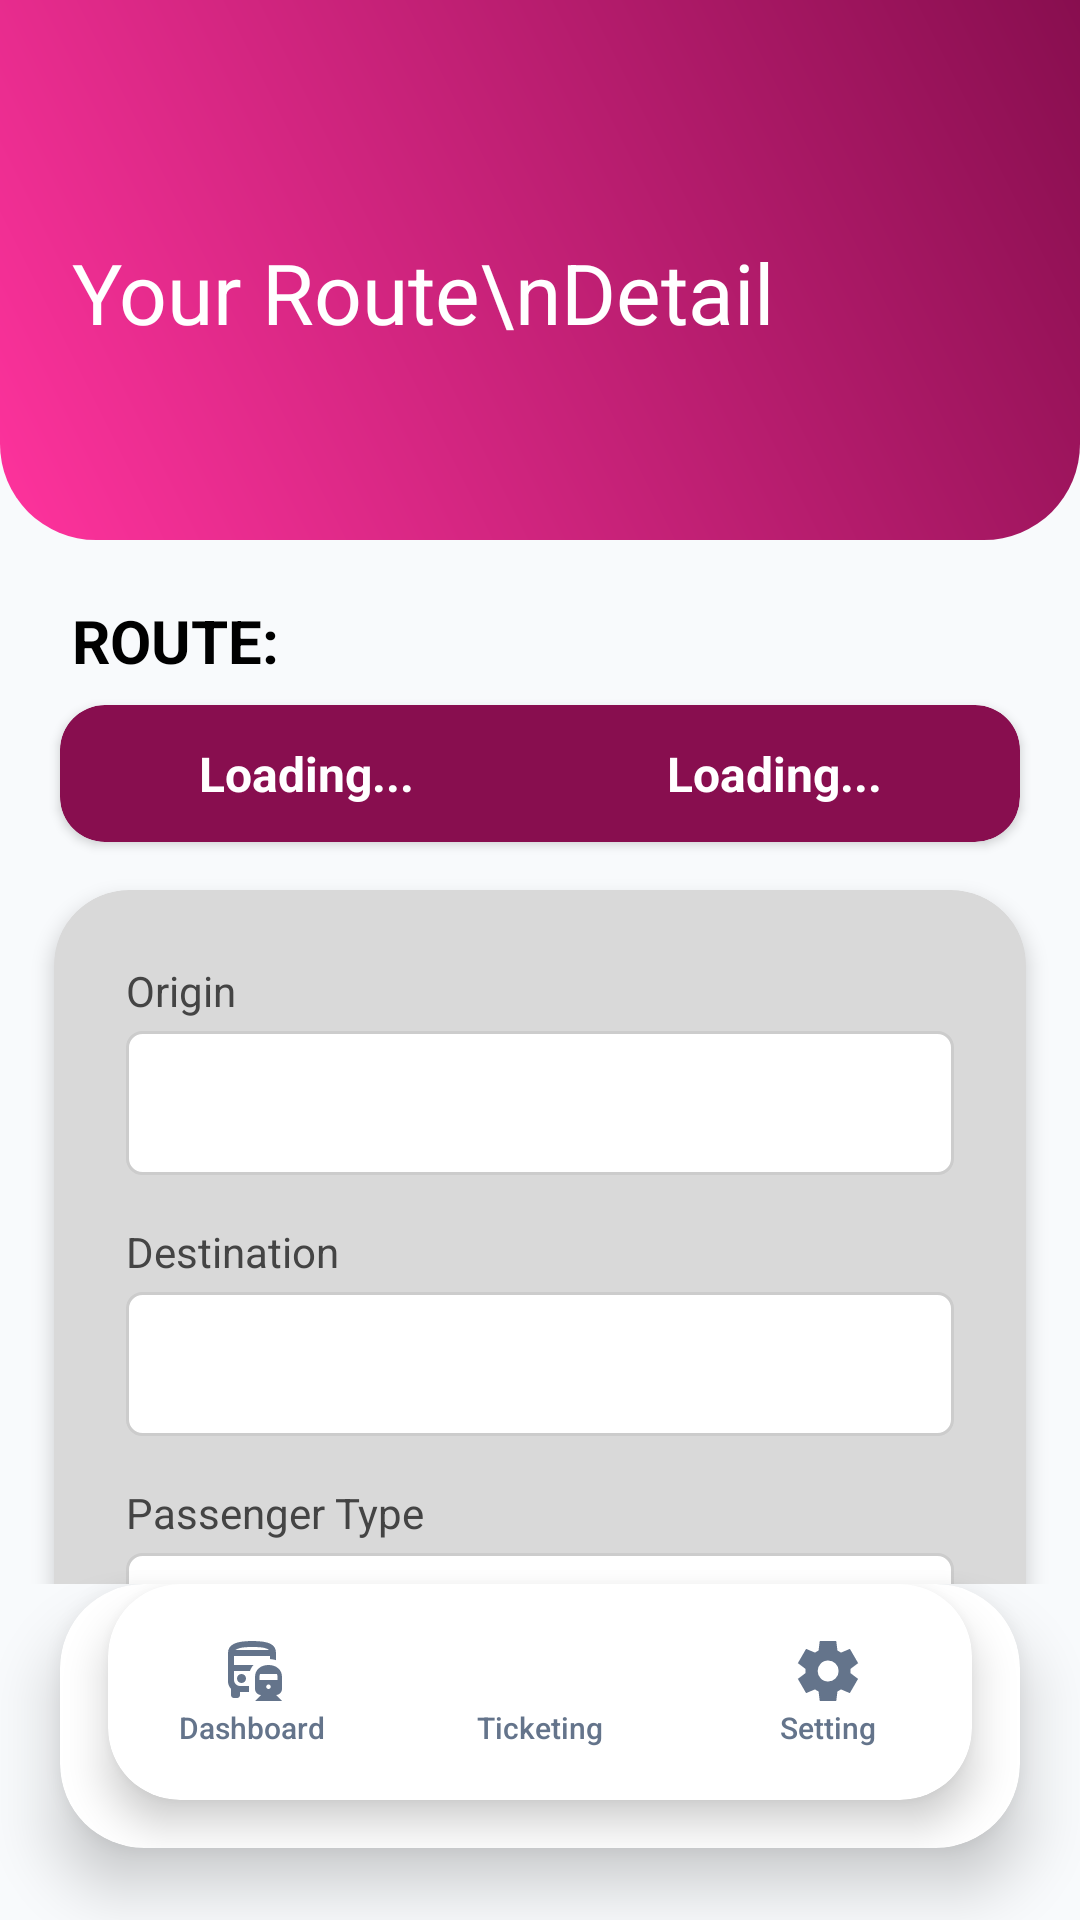

Icon click points for this 1080 x 1920 phone screenshot, format [x,y]:
bus railway: [255,1671]
